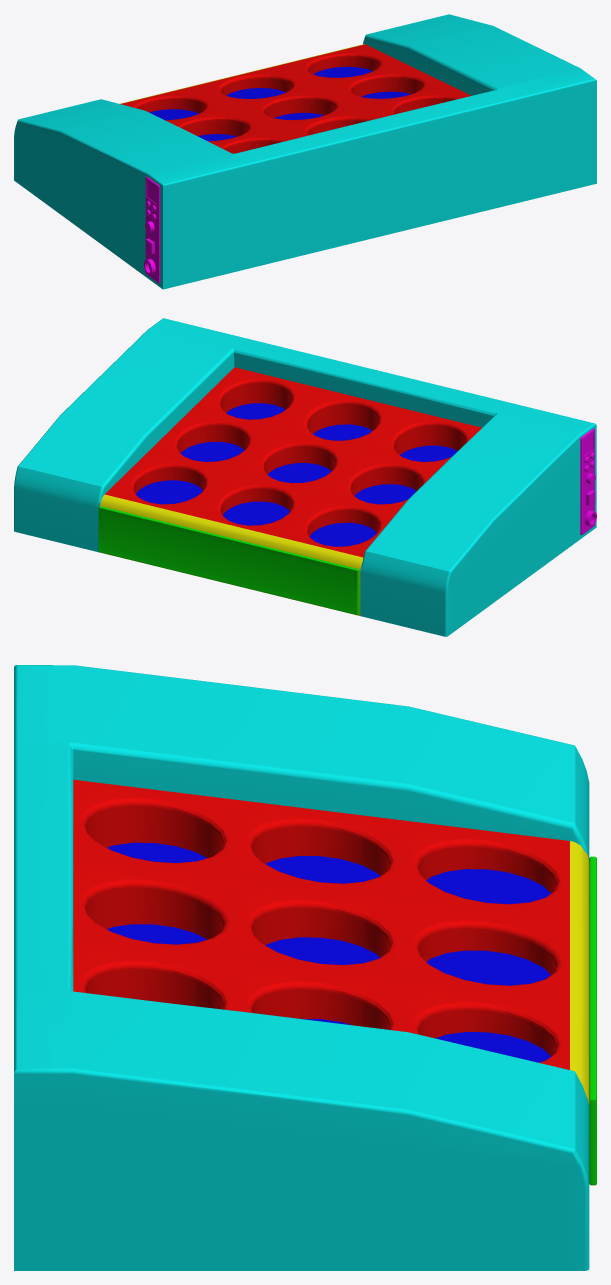
Rendered from CSmashMachine_Proxy.fbx.
3 views of the same model, one above another, from view 1: azimuth 30°, elevation 25°; view 2: azimuth 150°, elevation 25°; view 3: azimuth 270°, elevation 25° (orthographic). The views are drawn at different scales.
Visible parts, largest first — view 1: frame, holes, sightBlocker, panelBase; view 2: frame, holes, skullDoor, sightBlocker, skullHolder, panelBase; view 3: frame, holes, sightBlocker, skullHolder, skullDoor.
Part boxes in pixels (bbox=[...]): frame: bbox=[14, 14, 596, 289]; holes: bbox=[120, 44, 471, 153]; sightBlocker: bbox=[149, 66, 410, 141]; panelBase: bbox=[145, 176, 160, 283]; frame: bbox=[14, 318, 596, 636]; holes: bbox=[105, 367, 481, 557]; skullDoor: bbox=[98, 506, 359, 614]; sightBlocker: bbox=[136, 403, 457, 562]; skullHolder: bbox=[100, 494, 363, 615]; panelBase: bbox=[580, 428, 594, 534]; frame: bbox=[14, 665, 589, 1270]; holes: bbox=[73, 779, 569, 1069]; sightBlocker: bbox=[107, 842, 551, 1062]; skullHolder: bbox=[570, 841, 589, 1105]; skullDoor: bbox=[589, 856, 596, 1185].
Bounding box in the file's own units: 254 × 57.81 × 152.
